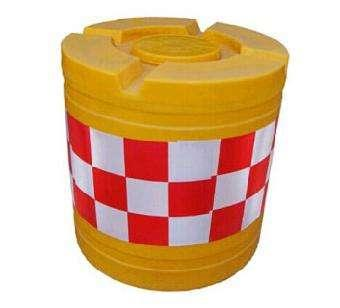sign: (50, 10, 292, 296)
